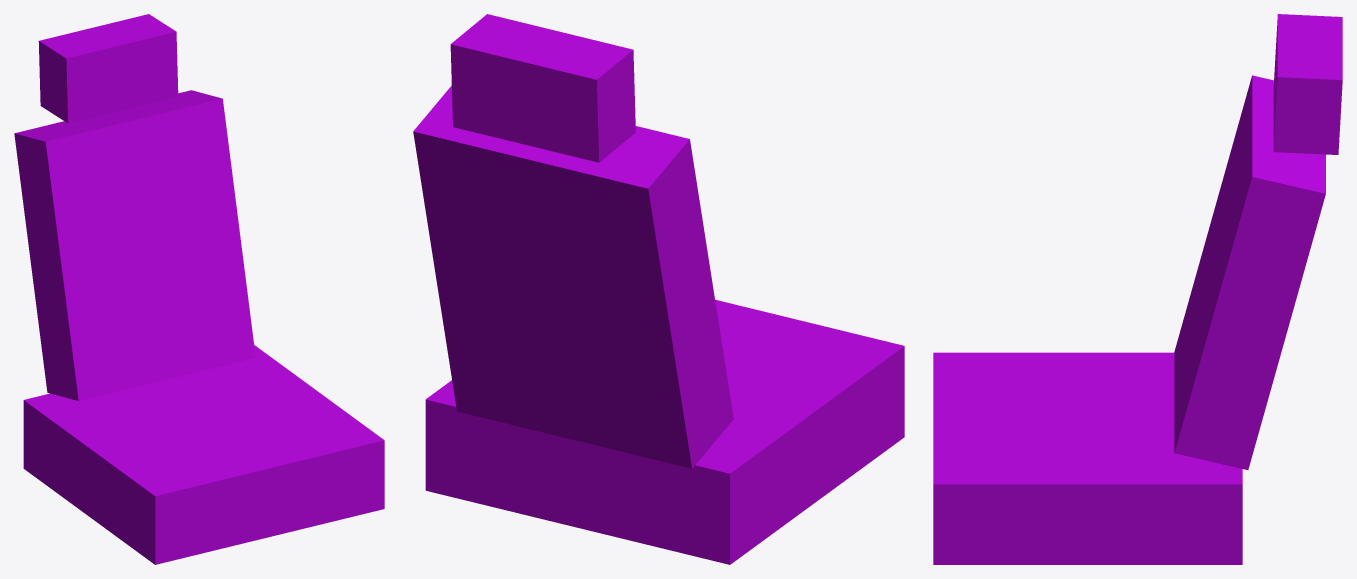
File: Car_Seat_01_Lod1.fbx
3 views of the same model, side by side, from view 1: azimuth 30°, elevation 25°; view 2: azimuth 150°, elevation 25°; view 3: azimuth 270°, elevation 25° (orthographic). The views are drawn at different scales.
Visible parts, largest first — view 1: Car_Seat_01_Lod1; view 2: Car_Seat_01_Lod1; view 3: Car_Seat_01_Lod1.
Boxes of the visible parts, bbox=[...] form: Car_Seat_01_Lod1: bbox=[14, 14, 384, 564]; Car_Seat_01_Lod1: bbox=[413, 14, 904, 564]; Car_Seat_01_Lod1: bbox=[933, 14, 1342, 564].
Size of the model in its own units: 59.43 by 95.31 by 78.16.
